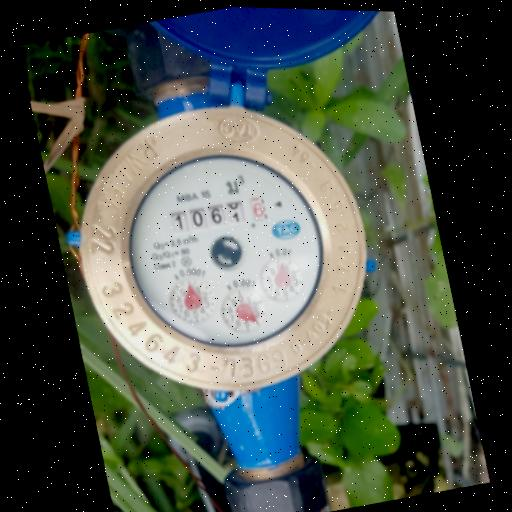0: (189, 207, 208, 230), (227, 200, 246, 223)
1: (170, 210, 189, 234)
6: (249, 195, 267, 220), (208, 204, 226, 227)
border_water_meter_number: (167, 191, 269, 240)
